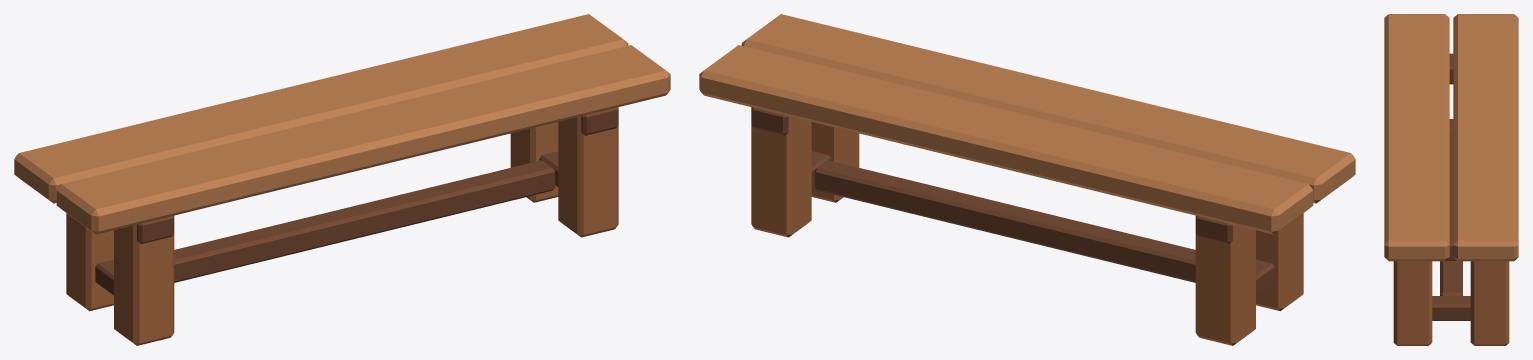
File: Lodge_Bench.fbx
3 renders of one model, left to right at view 1: azimuth 30°, elevation 25°; view 2: azimuth 150°, elevation 25°; view 3: azimuth 270°, elevation 25°, orthographic. The views are drawn at different scales.
Parts seen in each view (by area): view 1: Seat, FnWood, FnWoodDark; view 2: Seat, FnWood, FnWoodDark; view 3: Seat, FnWood, FnWoodDark.
Part boxes in pixels (bbox=[...]): Seat: bbox=[14, 14, 670, 234]; FnWood: bbox=[66, 116, 618, 345]; FnWoodDark: bbox=[95, 107, 618, 295]; Seat: bbox=[699, 14, 1355, 234]; FnWood: bbox=[751, 116, 1303, 345]; FnWoodDark: bbox=[751, 107, 1274, 295]; Seat: bbox=[1384, 14, 1518, 261]; FnWood: bbox=[1393, 261, 1509, 345]; FnWoodDark: bbox=[1432, 53, 1470, 320].
Bounding box in the file's own units: 12 × 3 × 2.96.
